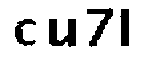7: (84, 6, 116, 49)
c: (12, 17, 38, 48)
l: (118, 5, 135, 49)
u: (44, 16, 81, 50)
